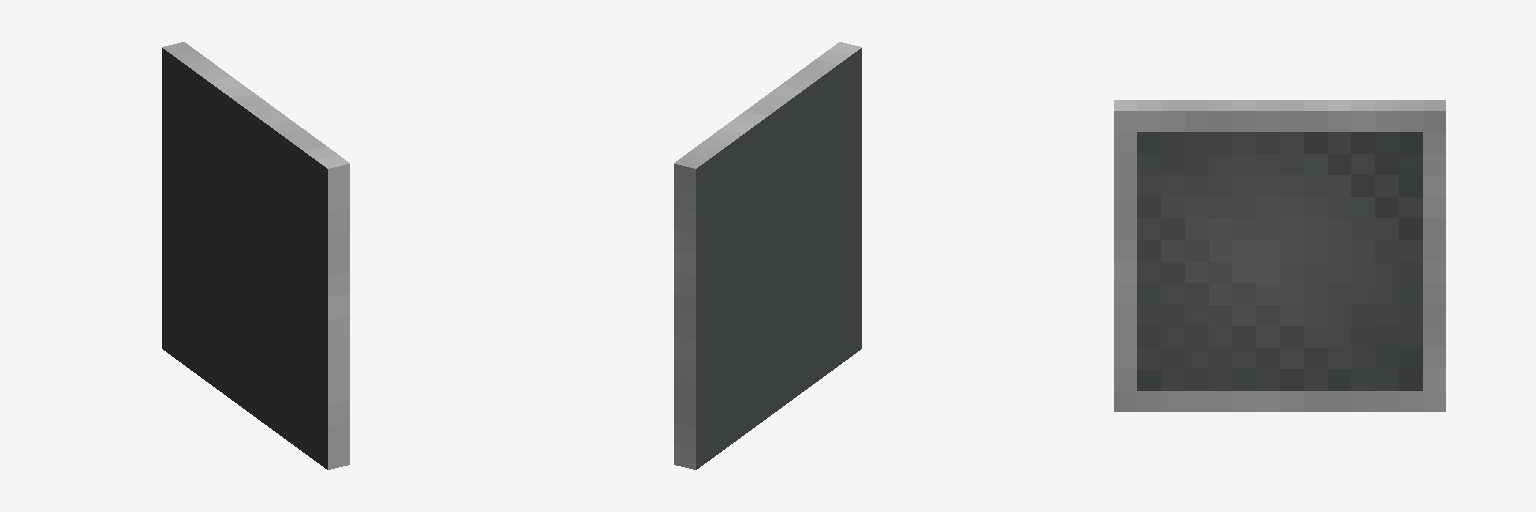
3 renders of one model, left to right at view 1: azimuth 30°, elevation 25°; view 2: azimuth 150°, elevation 25°; view 3: azimuth 270°, elevation 25°, orthographic.
Parts seen in each view (by area): view 1: socket; view 2: socket; view 3: socket.
Boxes of the visible parts, box(x1,y1,x2,y2) form: socket: box(162, 42, 349, 469); socket: box(674, 42, 861, 469); socket: box(1114, 100, 1445, 411).
Bounding box in the file's own units: 0.0688 × 0.875 × 0.875.
1 materials, 1 textured.